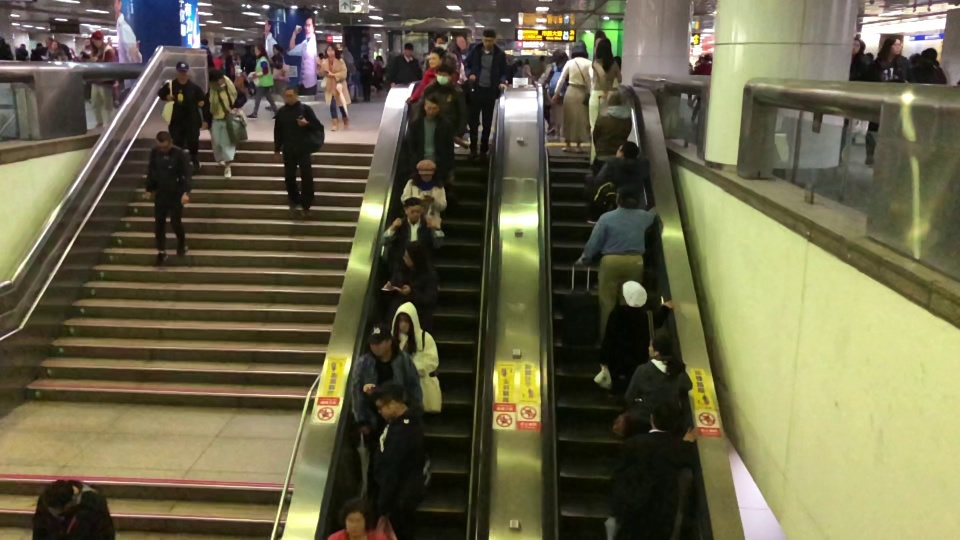person_head: (372, 380, 405, 420), (342, 497, 374, 533), (44, 480, 74, 516), (650, 401, 679, 430), (403, 242, 425, 269), (647, 334, 672, 357), (614, 186, 641, 207), (367, 332, 392, 354), (623, 286, 648, 307), (404, 197, 422, 220), (615, 141, 639, 157), (883, 37, 902, 56), (395, 309, 412, 330), (595, 38, 613, 56), (428, 48, 444, 68), (155, 131, 172, 149), (424, 93, 439, 113), (436, 64, 453, 81), (283, 85, 299, 102), (207, 69, 225, 84), (417, 162, 432, 180), (176, 64, 191, 81), (482, 29, 496, 46), (571, 44, 588, 58), (433, 35, 448, 49), (90, 32, 103, 47), (607, 91, 623, 103), (325, 42, 338, 56), (923, 47, 937, 60), (253, 44, 267, 56), (403, 42, 413, 57), (851, 38, 860, 52), (556, 51, 567, 61), (272, 44, 282, 53), (703, 54, 711, 61), (52, 41, 58, 49), (362, 53, 368, 61), (201, 38, 207, 45)
person_vbox: (579, 187, 658, 341), (613, 401, 699, 540), (371, 380, 432, 513), (598, 286, 676, 384), (350, 332, 423, 435), (144, 131, 194, 269), (273, 85, 324, 219), (463, 29, 508, 163), (419, 64, 468, 184), (864, 38, 909, 168), (624, 334, 693, 417), (157, 64, 206, 175), (202, 69, 248, 179), (32, 480, 115, 540), (551, 44, 591, 154), (587, 38, 621, 167), (400, 162, 448, 246), (384, 242, 440, 314), (407, 94, 457, 174), (592, 141, 649, 210), (591, 91, 632, 175), (316, 42, 352, 132), (837, 38, 861, 171), (393, 309, 438, 375), (381, 198, 432, 249), (89, 33, 116, 129), (245, 43, 278, 119), (404, 48, 444, 106), (544, 51, 568, 141), (265, 44, 290, 111), (389, 42, 423, 90), (690, 54, 713, 124), (914, 48, 948, 84), (356, 53, 375, 100), (200, 39, 214, 67), (50, 41, 66, 62), (0, 37, 12, 59)
